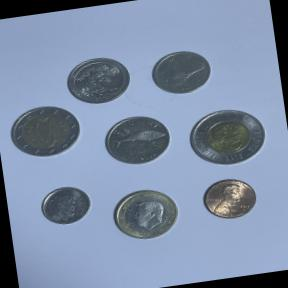coin: (180, 100, 274, 173), (104, 180, 190, 249), (98, 108, 177, 172), (6, 101, 85, 162), (61, 51, 135, 110), (194, 170, 265, 226), (35, 179, 98, 232)
